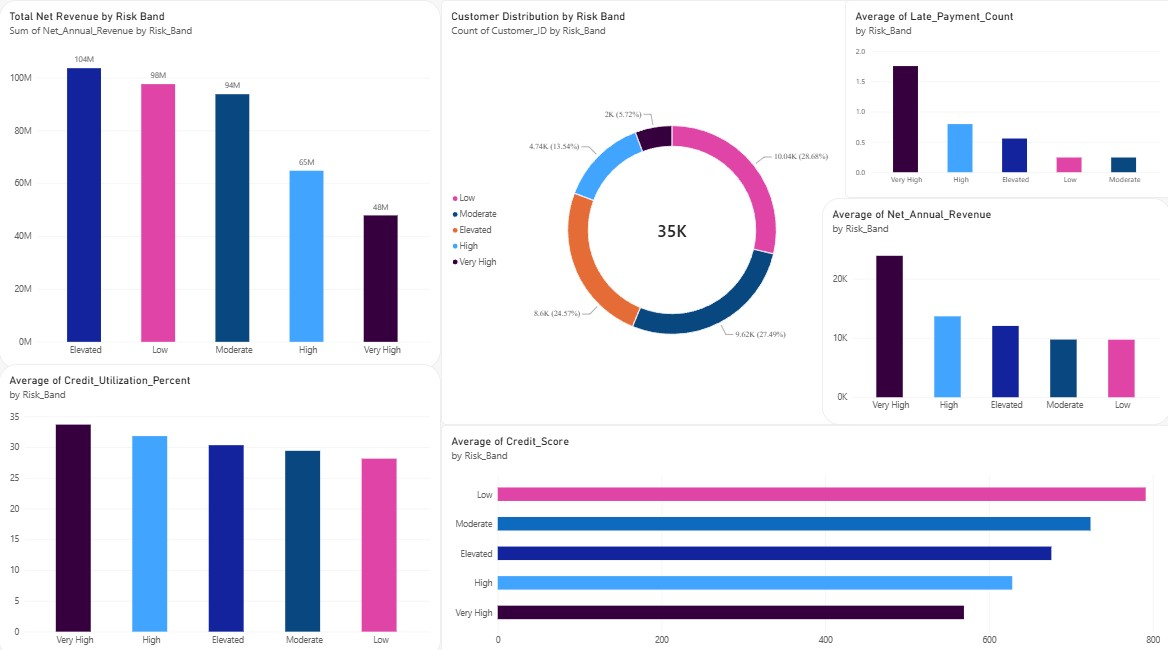

Layout of this report page (visuals, bound fields, positions):
{"tool":"powerbi","page":{"name":"Page 3","canvas":[1920,1080],"ordinal":2},"visuals":[{"type":"clusteredColumnChart","title":"Total Net Revenue by Risk Band","fields":{"Category":["Sheet1.Risk_Band"],"Y":["Sum(Sheet1.Net_Annual_Revenue)"]},"box":[0,0,724.3,605.4],"z":0},{"type":"donutChart","title":"Customer Distribution by Risk Band","fields":{"Category":["Sheet1.Risk_Band"],"Y":["CountNonNull(Sheet1.Customer_ID)"]},"box":[724.3,0,674.3,695.9],"z":1},{"type":"barChart","fields":{"Category":["Sheet1.Risk_Band"],"Y":["Avg(Sheet1.Credit_Score)"]},"box":[724.3,695.9,1195.9,383.8],"z":2},{"type":"clusteredColumnChart","fields":{"Category":["Sheet1.Risk_Band"],"Y":["Avg(Sheet1.Credit_Utilization_Percent)"]},"box":[0,595.9,724.3,483.8],"z":3},{"type":"clusteredColumnChart","fields":{"Category":["Sheet1.Risk_Band"],"Y":["Avg(Sheet1.Late_Payment_Count)"]},"box":[1386.5,0,533.8,324.3],"z":4},{"type":"clusteredColumnChart","fields":{"Category":["Sheet1.Risk_Band"],"Y":["Avg(Sheet1.Net_Annual_Revenue)"]},"box":[1348.6,324.3,571.6,371.6],"z":5}]}

Visuals, with their boxes in screenshot pixels (x1, y1, x2, y2), scaled from the page's 1920x1080 canvas onto the 1168x650 screenshot:
"Total Net Revenue by Risk Band" clusteredColumnChart: select_region(0, 0, 441, 364)
"Customer Distribution by Risk Band" donutChart: select_region(441, 0, 851, 419)
barChart - Sheet1.Risk_Band x Avg(Sheet1.Credit_Score): select_region(441, 419, 1167, 649)
clusteredColumnChart - Sheet1.Risk_Band x Avg(Sheet1.Credit_Utilization_Percent): select_region(0, 359, 441, 649)
clusteredColumnChart - Sheet1.Risk_Band x Avg(Sheet1.Late_Payment_Count): select_region(843, 0, 1167, 195)
clusteredColumnChart - Sheet1.Risk_Band x Avg(Sheet1.Net_Annual_Revenue): select_region(820, 195, 1167, 419)
